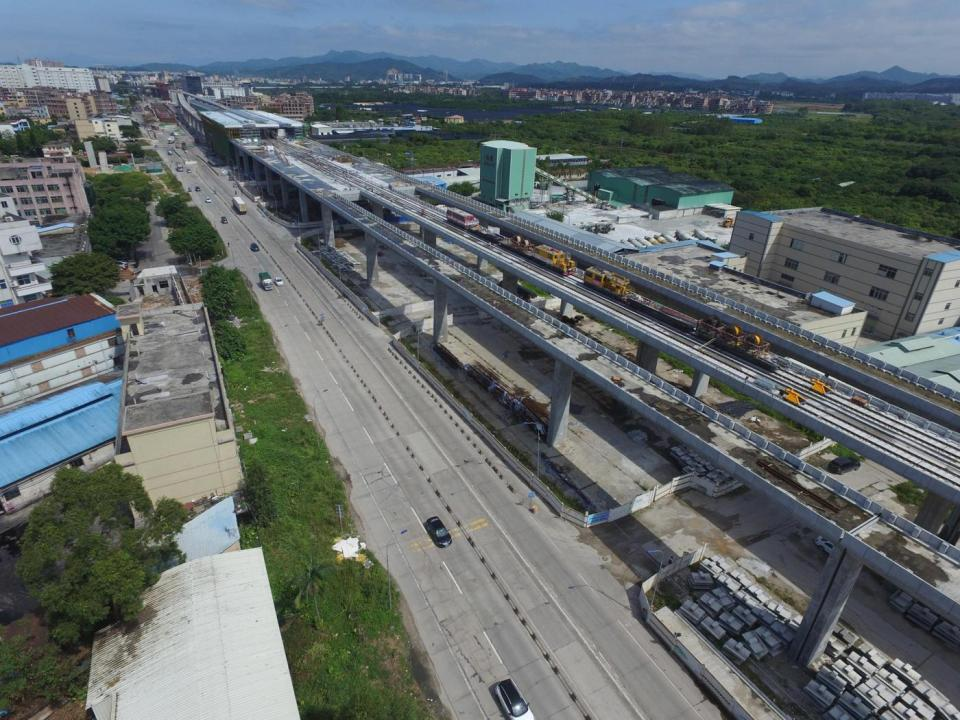car: (492, 678, 536, 719), (814, 532, 852, 558), (426, 516, 450, 548), (828, 454, 860, 476), (273, 277, 284, 286), (250, 243, 259, 251), (196, 187, 200, 192), (206, 198, 211, 202), (232, 183, 237, 187), (188, 168, 192, 172), (229, 176, 233, 180)
truck: (231, 196, 246, 214), (258, 272, 273, 290), (176, 162, 183, 171), (167, 136, 174, 144), (173, 130, 179, 138)
van: (222, 216, 228, 224)
